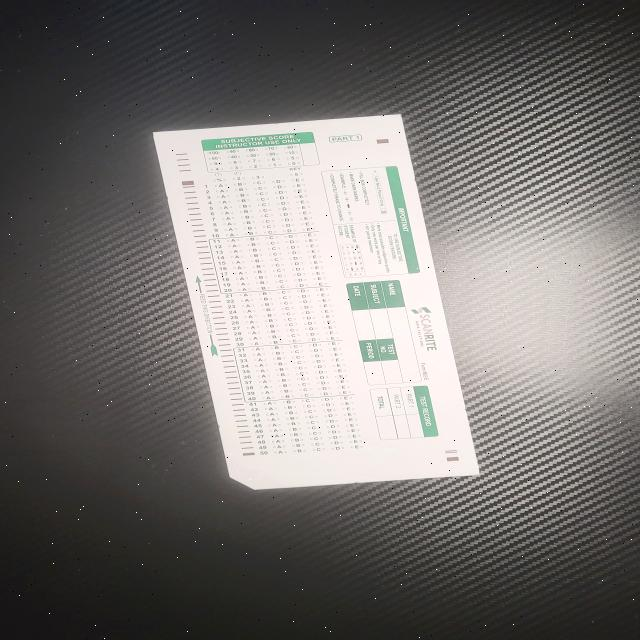scantron: (153, 114, 480, 490)
